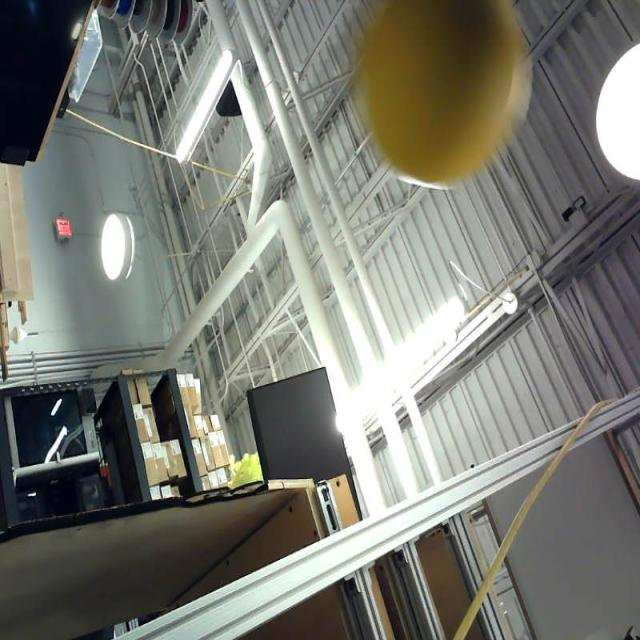Fuel: (365, 0, 515, 183)
